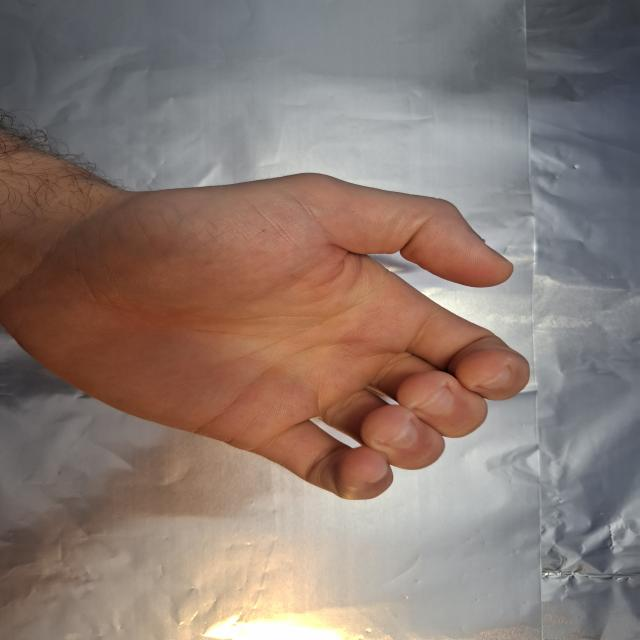glove_off: (12, 124, 534, 503)
